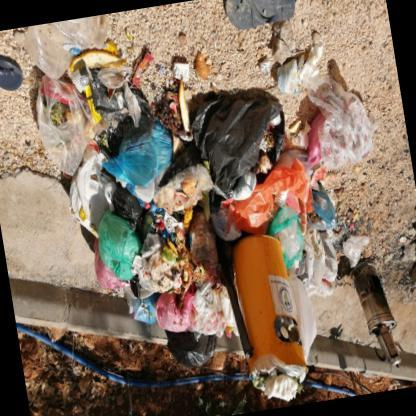Garbage: (25, 18, 151, 245), (77, 34, 222, 166), (190, 78, 286, 206), (212, 137, 322, 234), (27, 60, 104, 178), (113, 105, 185, 202), (152, 194, 218, 296), (258, 40, 339, 118), (298, 184, 358, 286), (146, 166, 214, 239), (148, 67, 203, 143), (274, 188, 318, 274), (160, 278, 214, 336), (94, 218, 132, 292), (294, 263, 320, 351), (162, 219, 194, 284), (128, 278, 166, 324), (335, 212, 367, 262), (264, 364, 300, 406), (90, 248, 112, 291)
